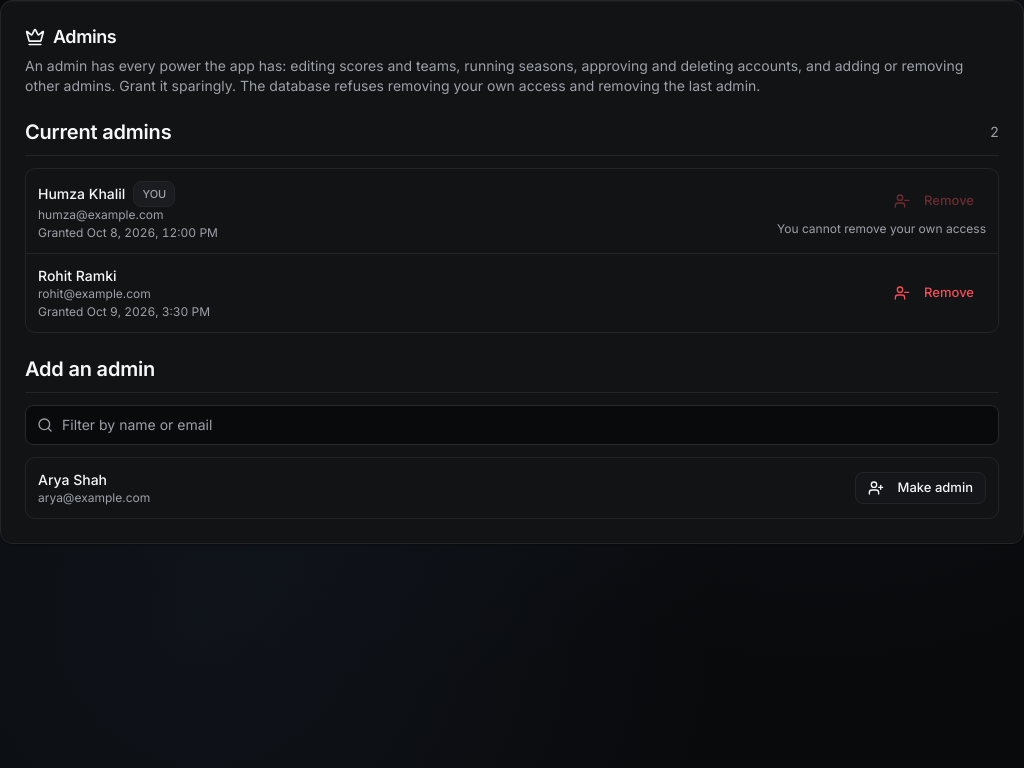
Test: LeagueAdminsManager › shows the database’s refusal instead of swallowing it
Click the button with aria-label "remove rohit ramki as admin".
click(934, 293)  # box top-left (882, 277), bottom-right (986, 309)
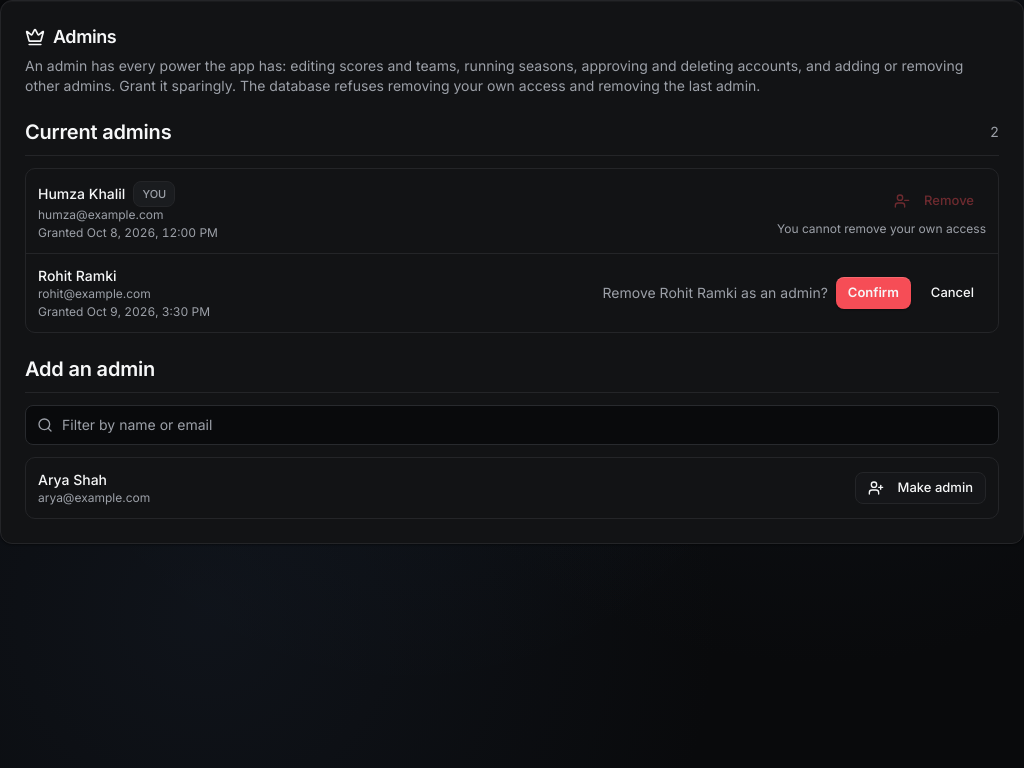
Click the button "Confirm".
click(873, 293)  # box top-left (836, 277), bottom-right (911, 309)
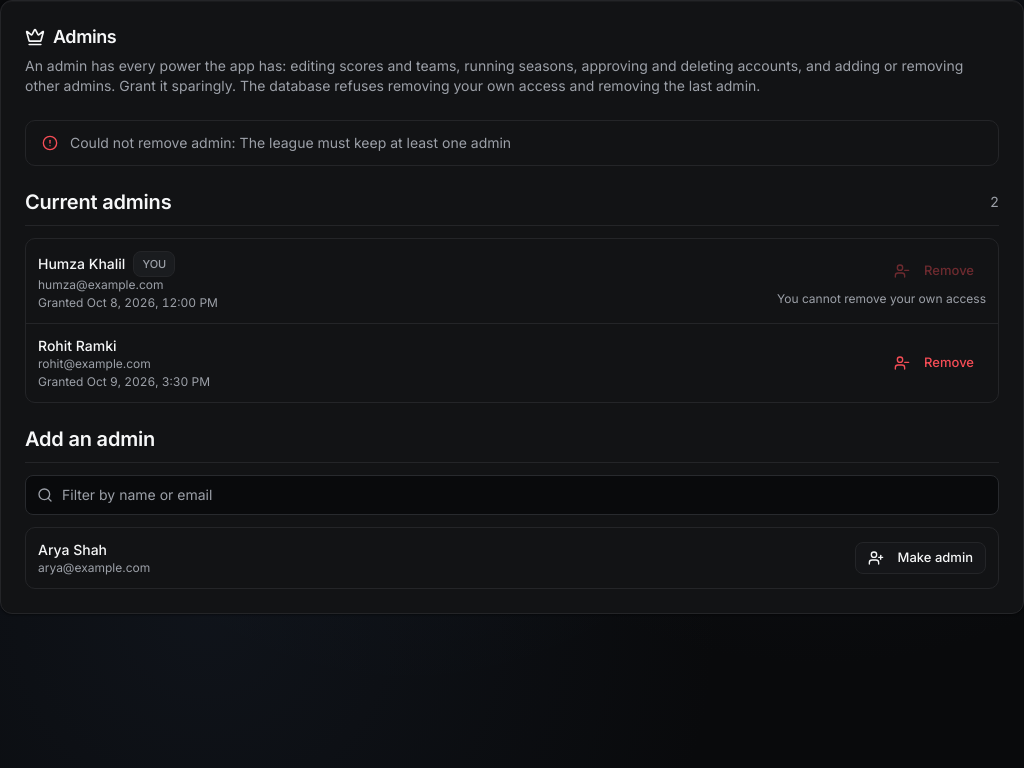
Expected: the text "Could not remove admin: The league must keep at least one admin" is shown, top-left (70, 134), bottom-right (511, 151)
